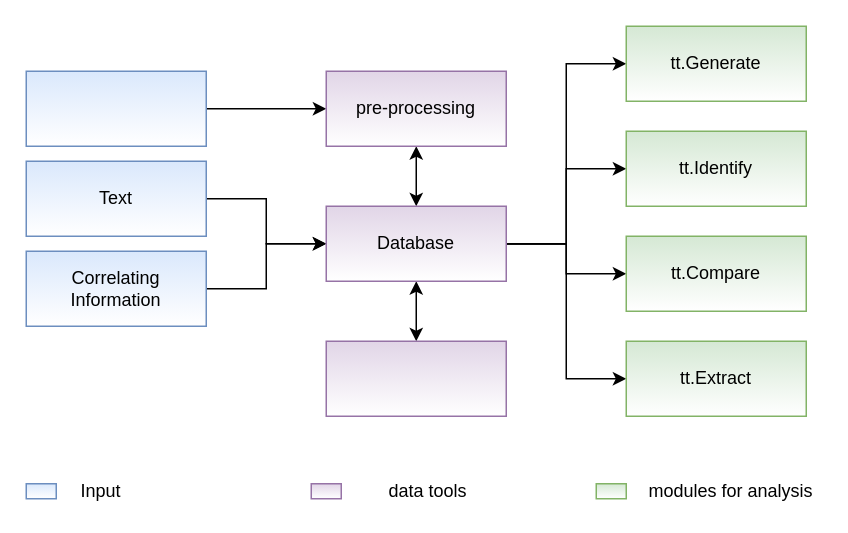
The diagram is 848 pixels wide and 533 high, and some of its shapes have lost their labels. Each missing label, with the centre of its shape:
"Generate Tags" belongs at (x=415, y=378).
"User Settings" belongs at (x=115, y=108).
